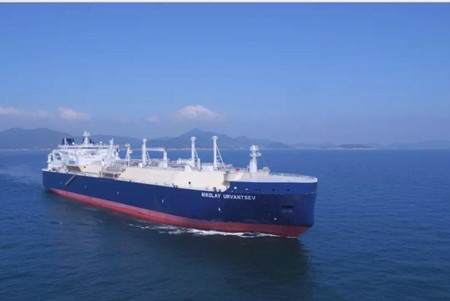Cargoship: (39, 132, 321, 240)
